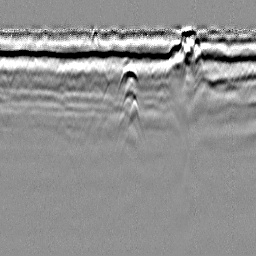cavity: (117, 59, 139, 96)
